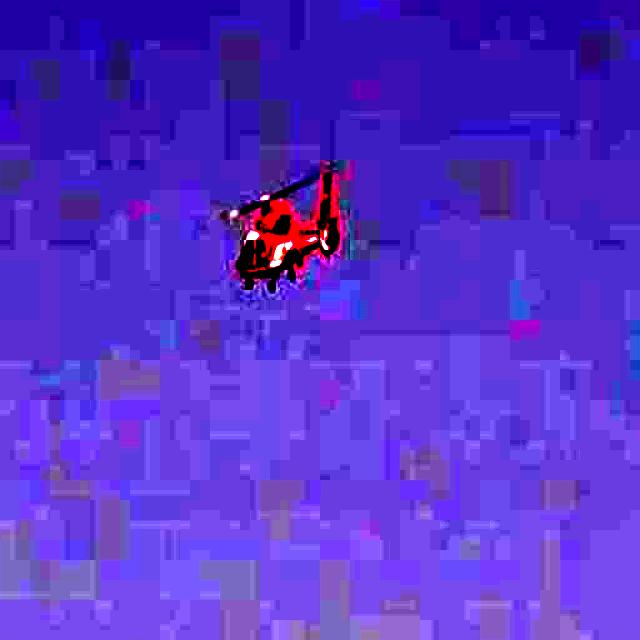drone: (176, 128, 408, 319)
